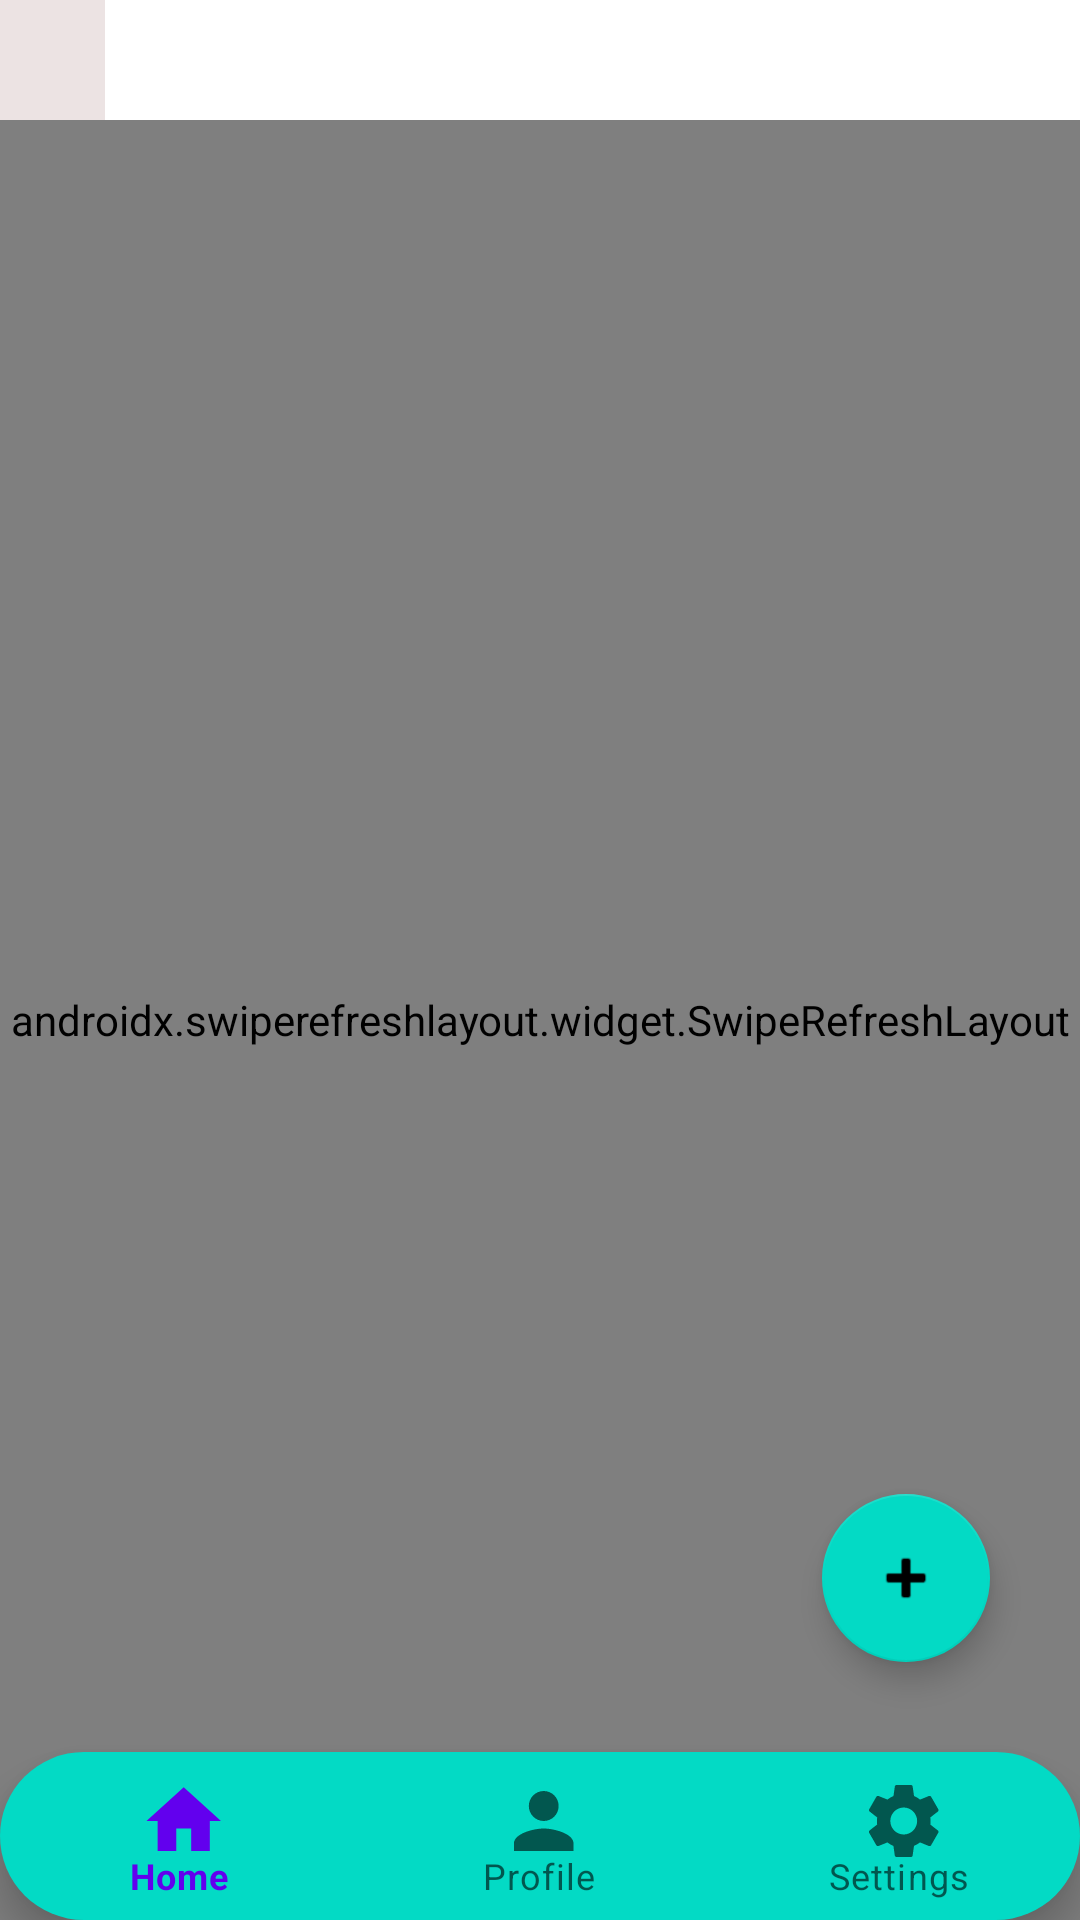

Icons on this 1080 x 1920 Android screen, each with its box as Rect(x1, y1, x2, y2):
add: Rect(822, 1494, 990, 1662)
